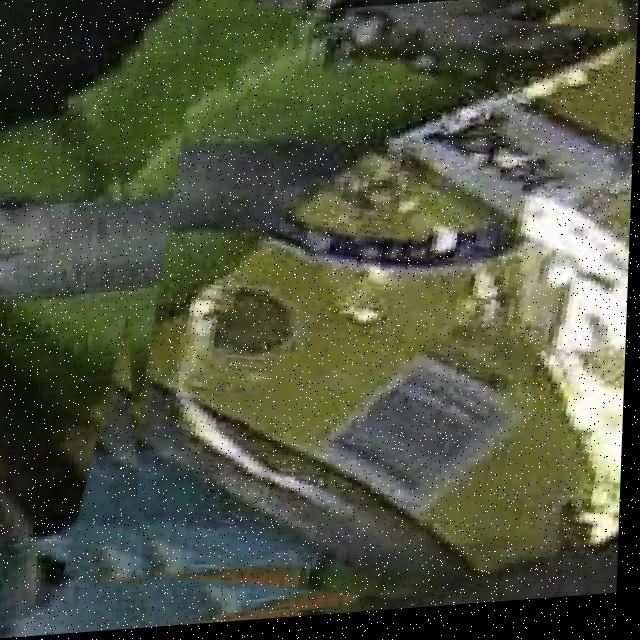litter: (92, 0, 639, 634)
